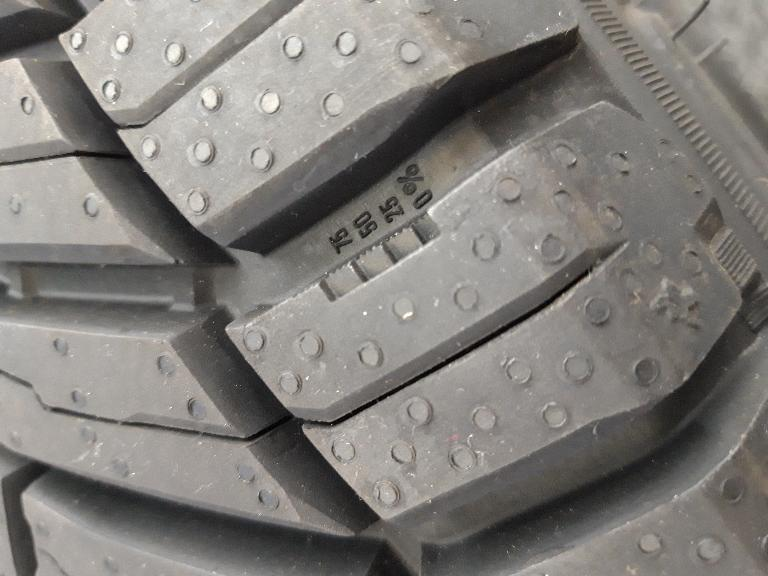temoin:100: (296, 207, 447, 306)
